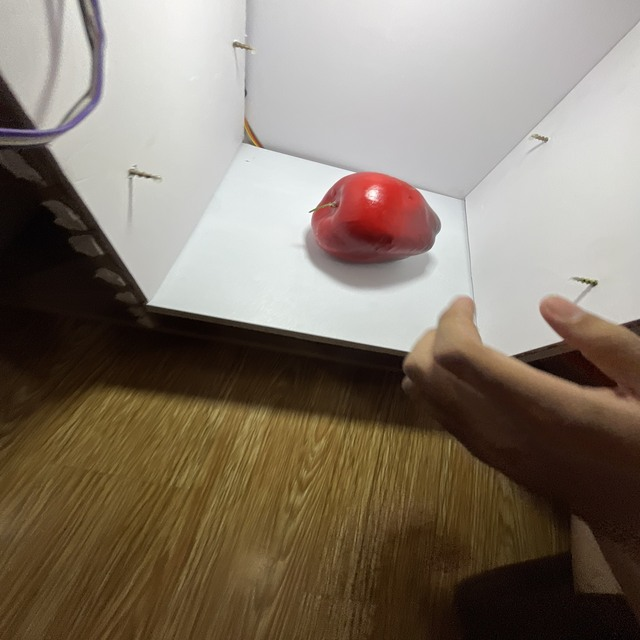Tao: (312, 167, 443, 270)
